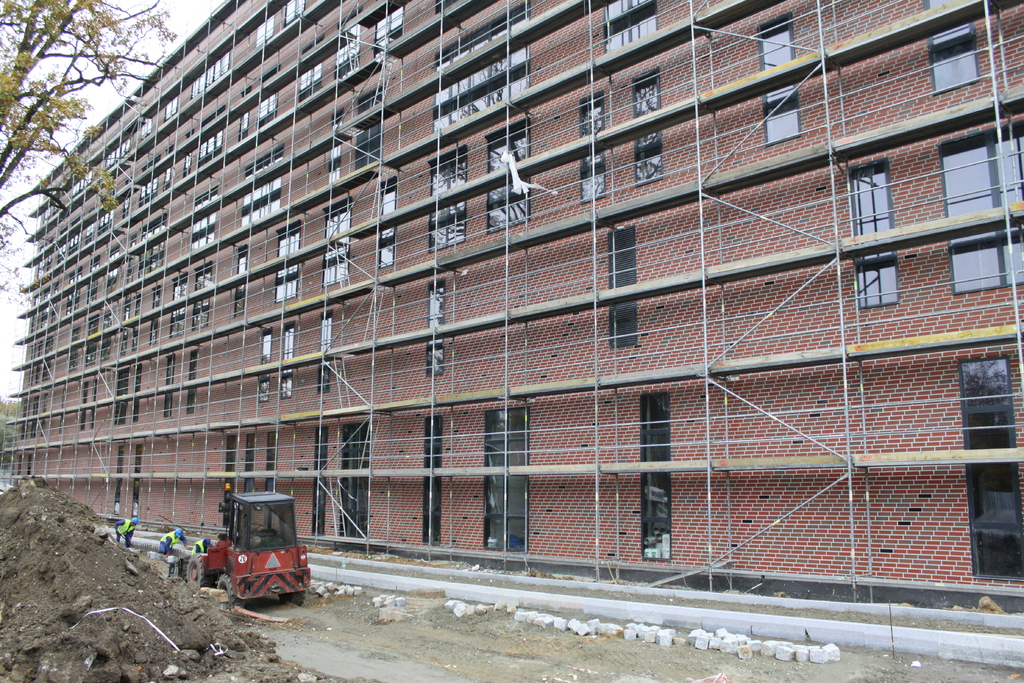Person: (112, 515, 140, 551), (157, 528, 187, 554), (191, 537, 213, 555)
